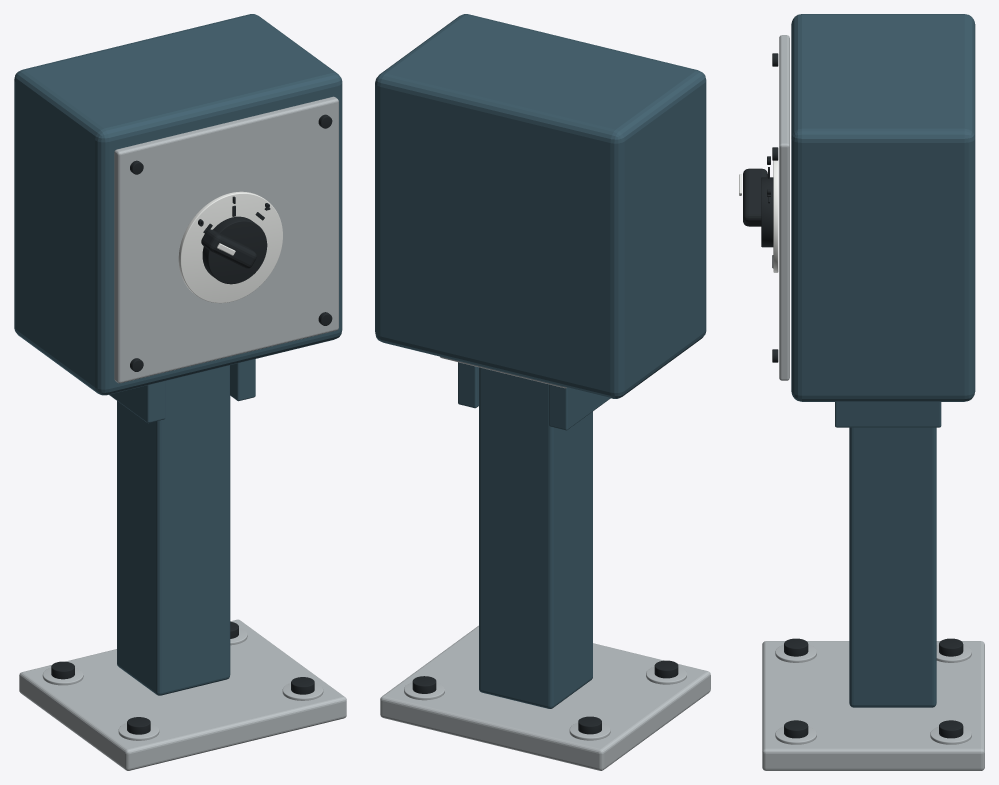
Rendered from rotary_selector_station.glb.
The picture shows the model from 3 angles, left to right: view 1: azimuth 30°, elevation 25°; view 2: azimuth 150°, elevation 25°; view 3: azimuth 270°, elevation 25°; orthographic projection. The views are drawn at different scales.
Visible parts, largest first — view 1: ENCLOSURE_body, ENCLOSURE_door, PEDESTAL_tube, BASE_plate, SELECTOR_dial_plate, SELECTOR_bezel, PEDESTAL_gusset_-0.11, SELECTOR_handle, PEDESTAL_gusset_0.11; view 2: ENCLOSURE_body, PEDESTAL_tube, BASE_plate, PEDESTAL_gusset_-0.11, PEDESTAL_gusset_0.11; view 3: ENCLOSURE_body, PEDESTAL_tube, BASE_plate, ENCLOSURE_door, PEDESTAL_gusset_0.11, SELECTOR_handle, SELECTOR_bezel, SELECTOR_dial_plate.
Part boxes in pixels (bbox=[...]): ENCLOSURE_body: bbox=[14, 14, 342, 395]; ENCLOSURE_door: bbox=[114, 96, 338, 383]; PEDESTAL_tube: bbox=[117, 365, 230, 695]; BASE_plate: bbox=[19, 619, 346, 770]; SELECTOR_dial_plate: bbox=[178, 191, 282, 303]; SELECTOR_bezel: bbox=[202, 216, 267, 284]; PEDESTAL_gusset_-0.11: bbox=[109, 381, 165, 423]; SELECTOR_handle: bbox=[201, 229, 256, 268]; PEDESTAL_gusset_0.11: bbox=[230, 359, 255, 401]; ENCLOSURE_body: bbox=[375, 14, 706, 398]; PEDESTAL_tube: bbox=[479, 367, 592, 708]; BASE_plate: bbox=[380, 625, 710, 770]; PEDESTAL_gusset_-0.11: bbox=[549, 384, 610, 430]; PEDESTAL_gusset_0.11: bbox=[458, 362, 478, 408]; ENCLOSURE_body: bbox=[791, 14, 975, 401]; PEDESTAL_tube: bbox=[849, 427, 936, 707]; BASE_plate: bbox=[762, 641, 984, 770]; ENCLOSURE_door: bbox=[779, 35, 789, 380]; PEDESTAL_gusset_0.11: bbox=[835, 402, 941, 427]; SELECTOR_handle: bbox=[743, 168, 767, 226]; SELECTOR_bezel: bbox=[761, 177, 773, 247]; SELECTOR_dial_plate: bbox=[773, 160, 778, 272].
Size of the model in its own units: 0.6 by 1.47 by 0.508.
